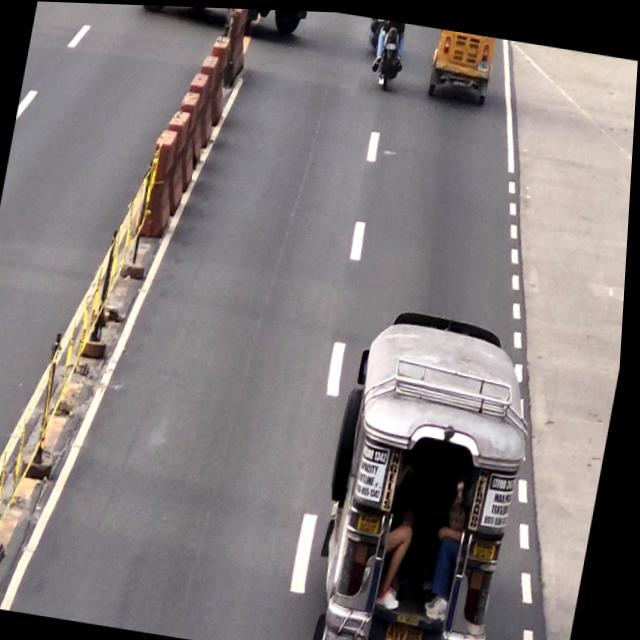Jeep: (315, 305, 543, 640)
License-Plate: (390, 619, 431, 640)
Motorcycle: (368, 16, 407, 87)
